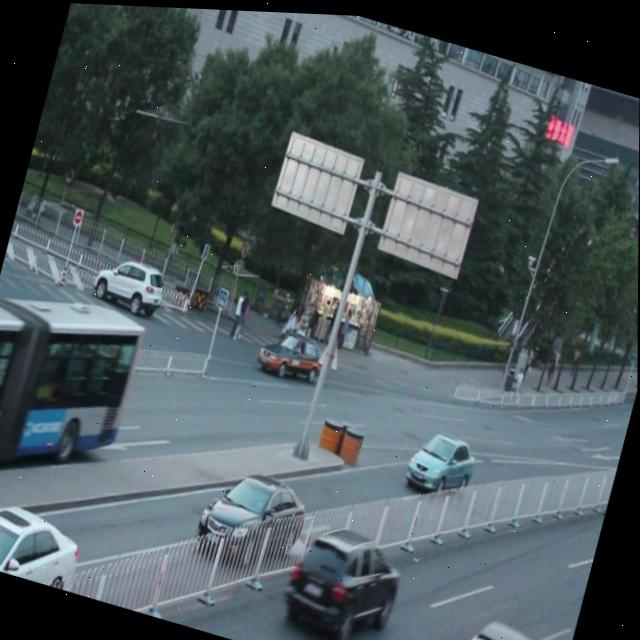car: (281, 511, 409, 640), (192, 456, 311, 579), (0, 485, 90, 592), (399, 418, 481, 500), (93, 249, 167, 318), (256, 318, 329, 384), (446, 606, 556, 640)
van: (0, 271, 148, 526)
